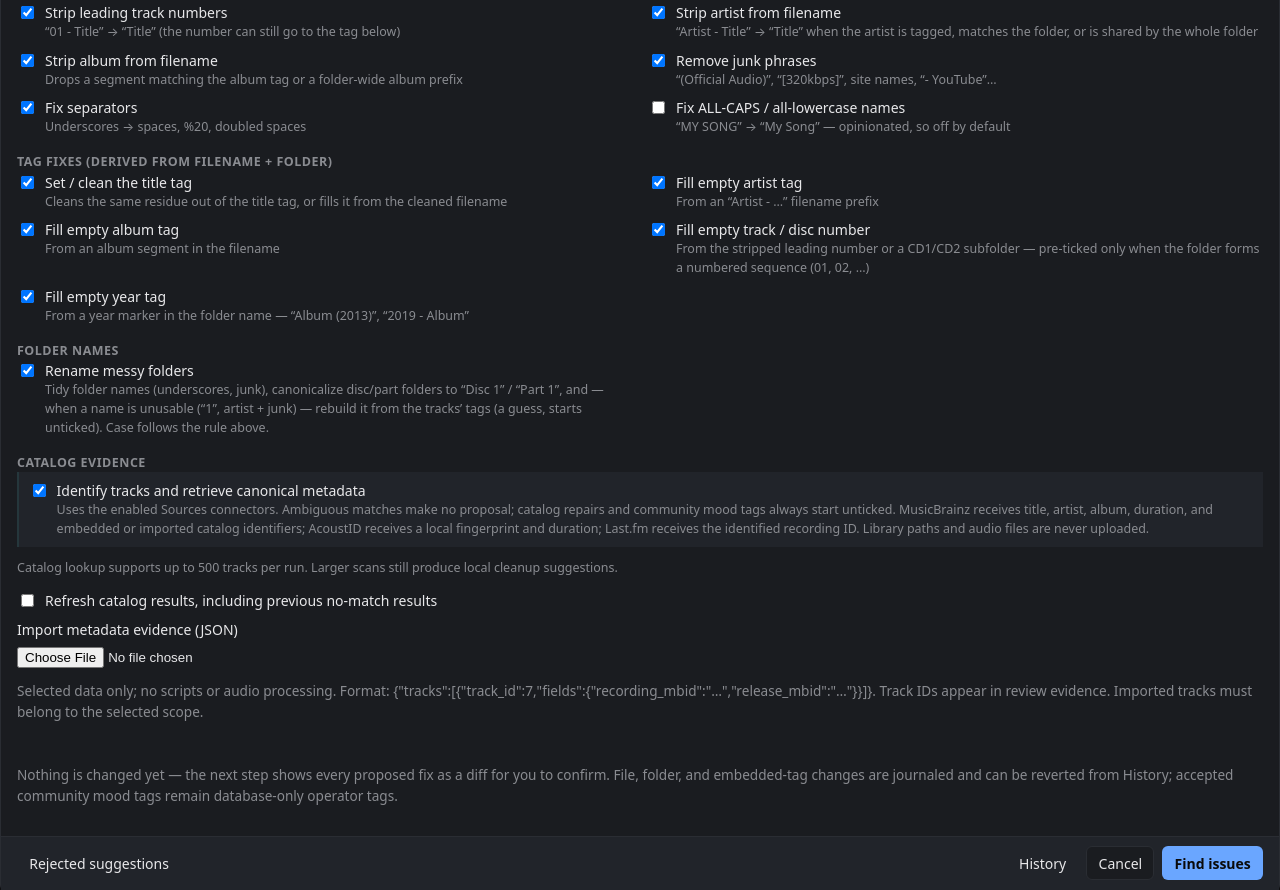
Test: CleanupWorkflow catalog enrichment › copies the original catalog job without downloads, new lookups or applying review choices
(page scrolled)
Step 1. Click the button "Find issues" → (1213, 863), box [1162,846,1263,880]
(page scrolled)
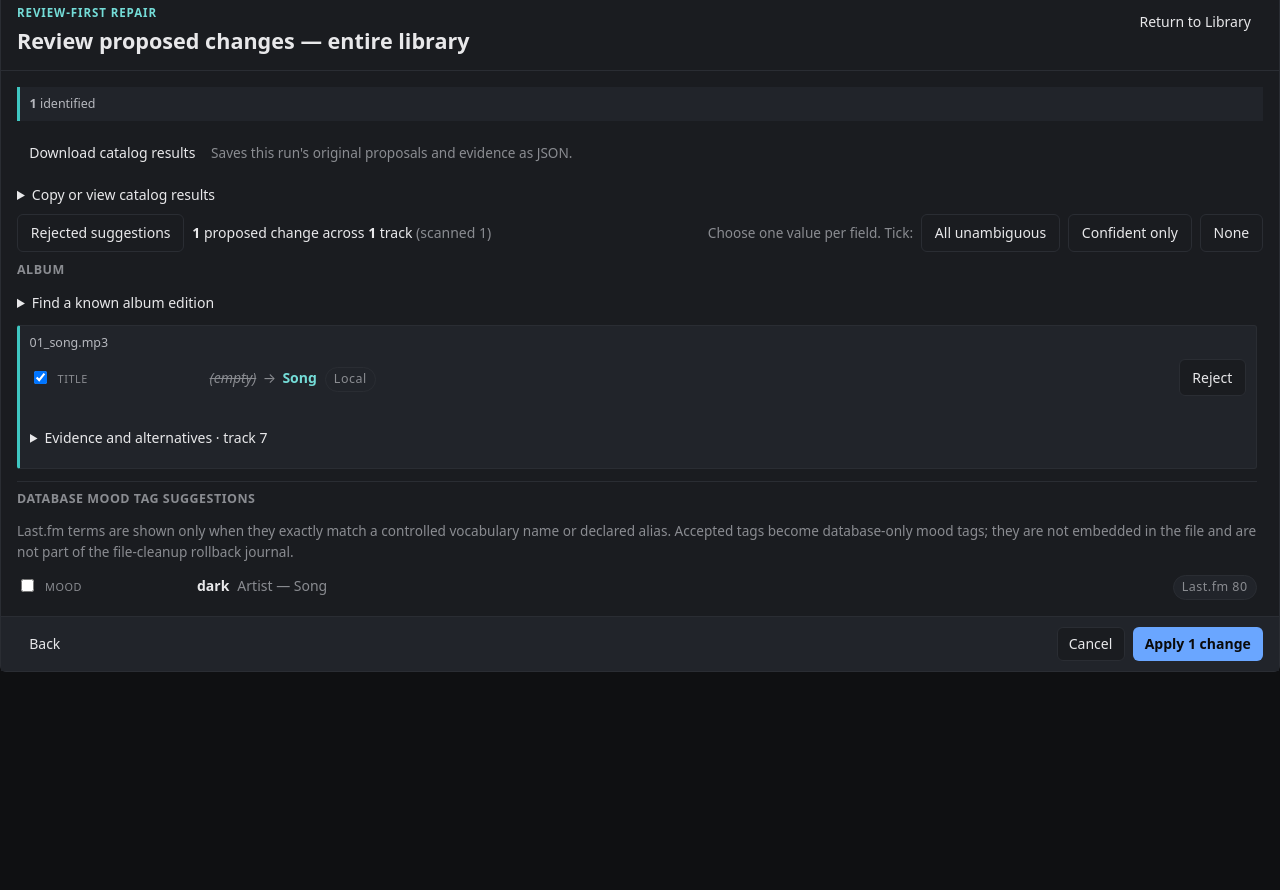
Expected: the text "01_song.mp3" is shown, [30,334,108,351]
Step 2. Click the button "None" → (1231, 233), box [1200,214,1263,252]
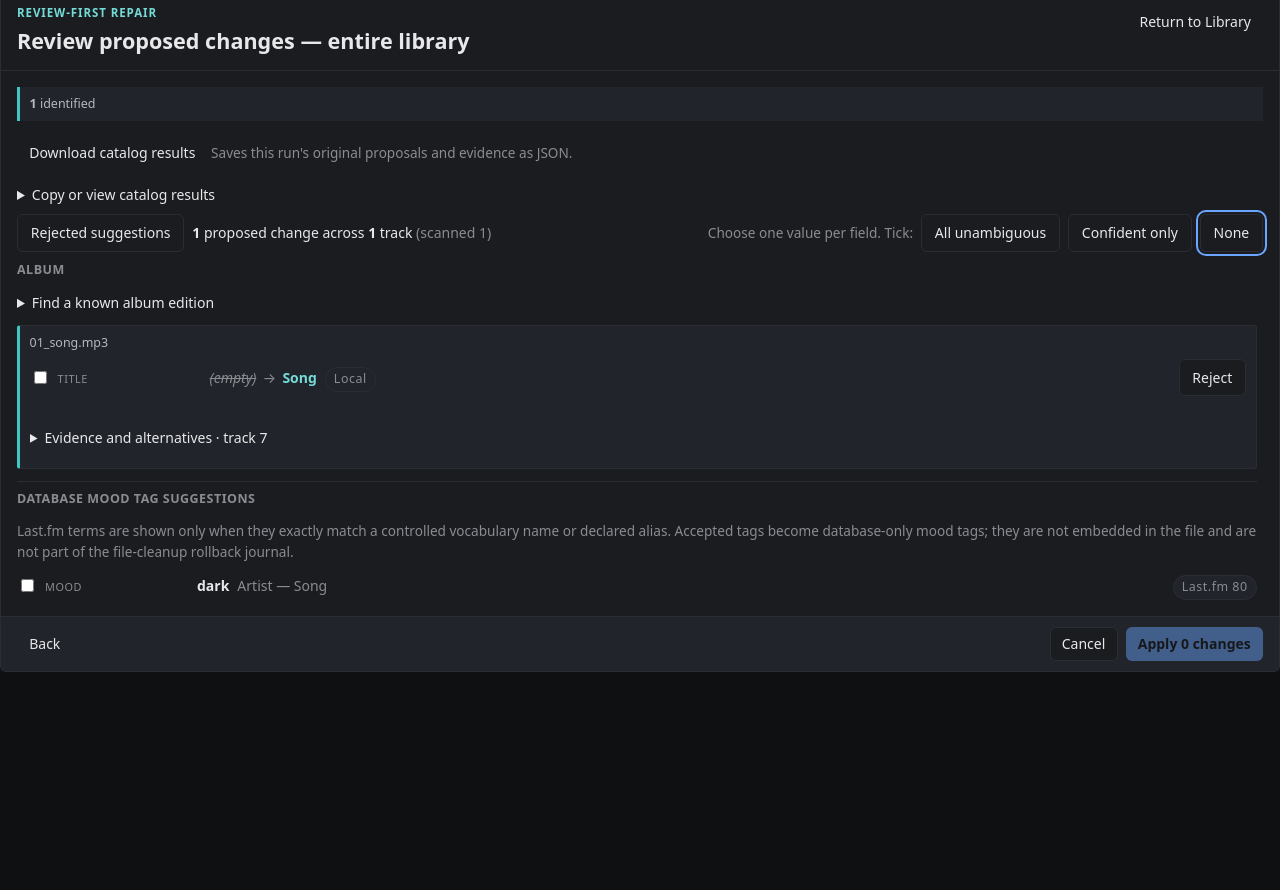
Step 3. Click the heading "Copy or view catalog results" → (123, 194), box [32,185,215,204]
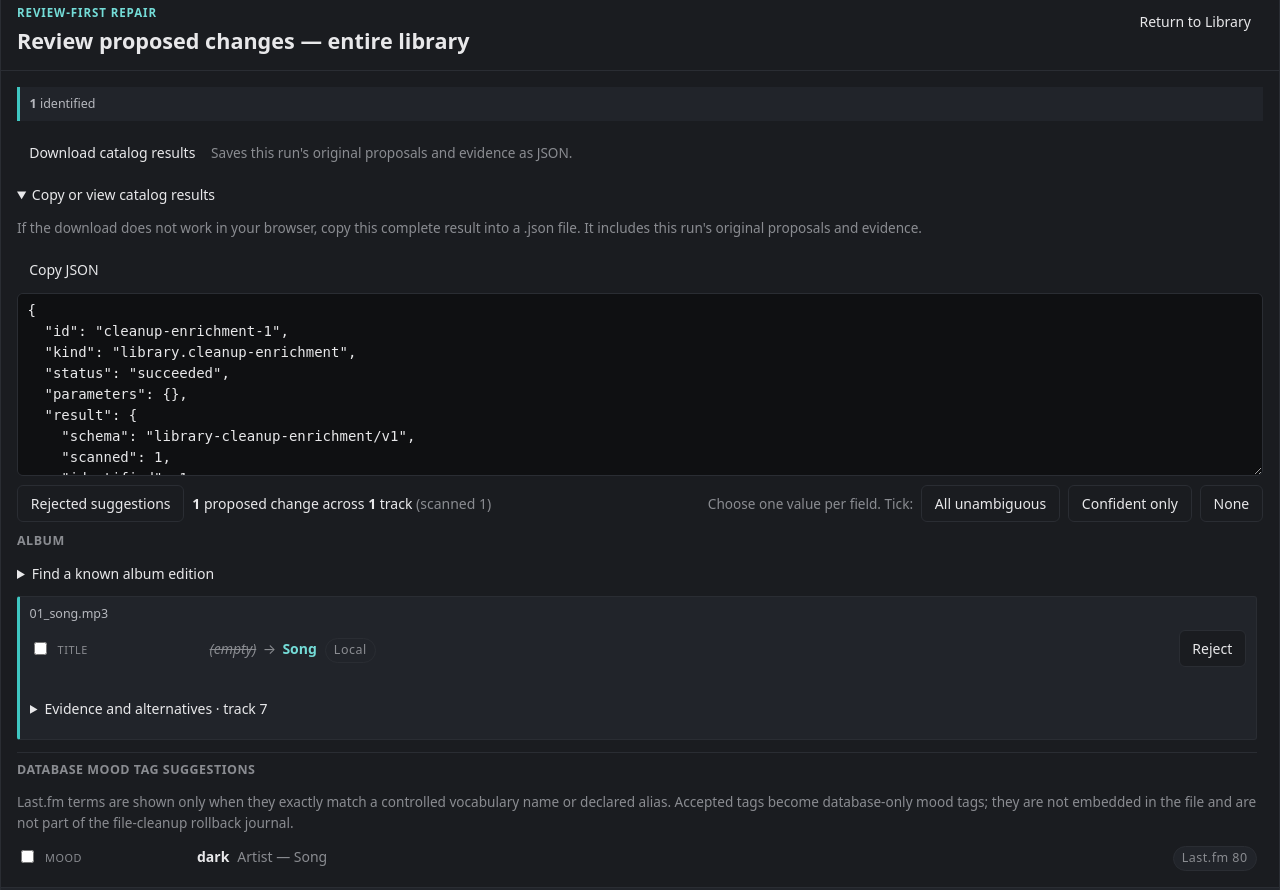
Step 4. Click the button "Copy JSON" → (64, 269), box [17,252,111,286]
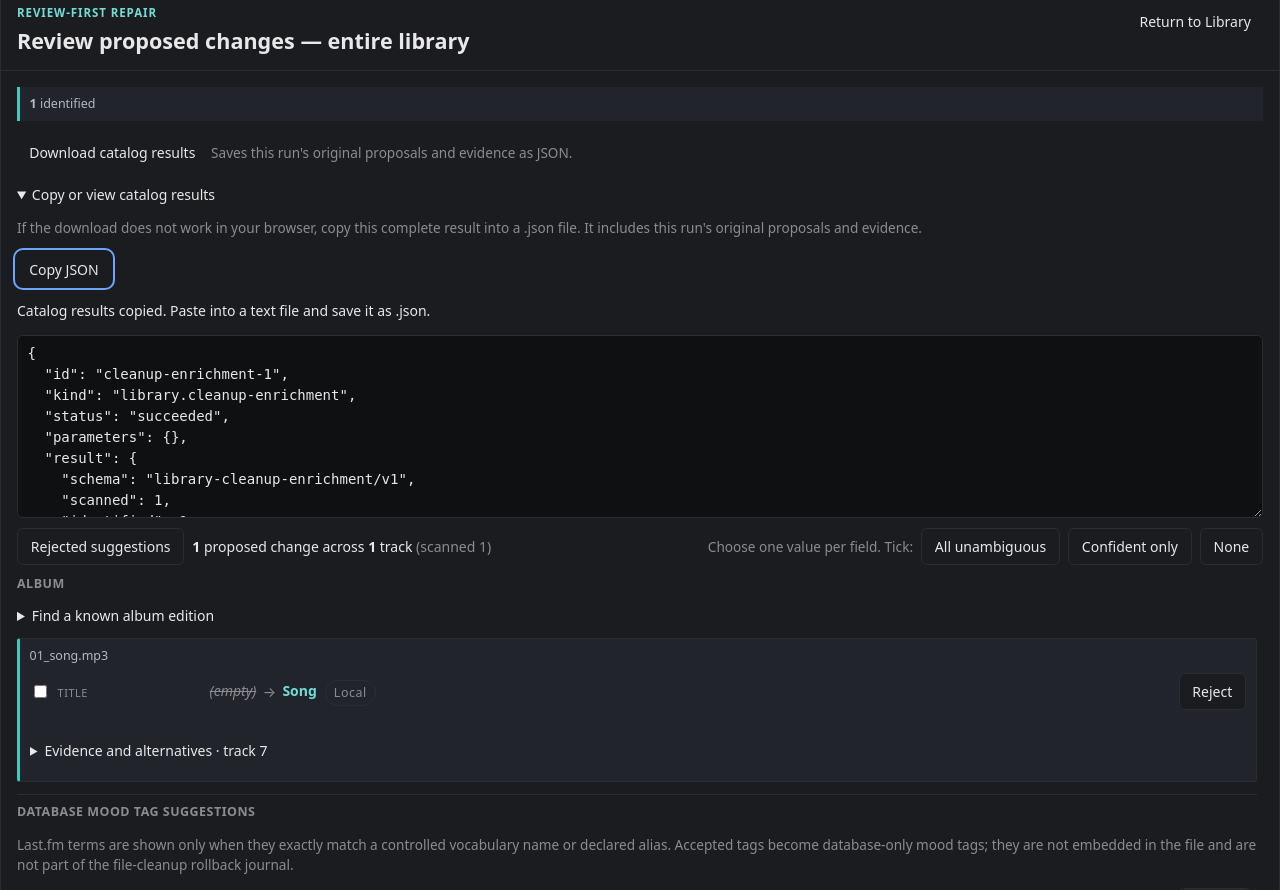
Expected: the text "Catalog results copied. Paste into a text file and save it as .json." is shown, [17,301,430,320]
